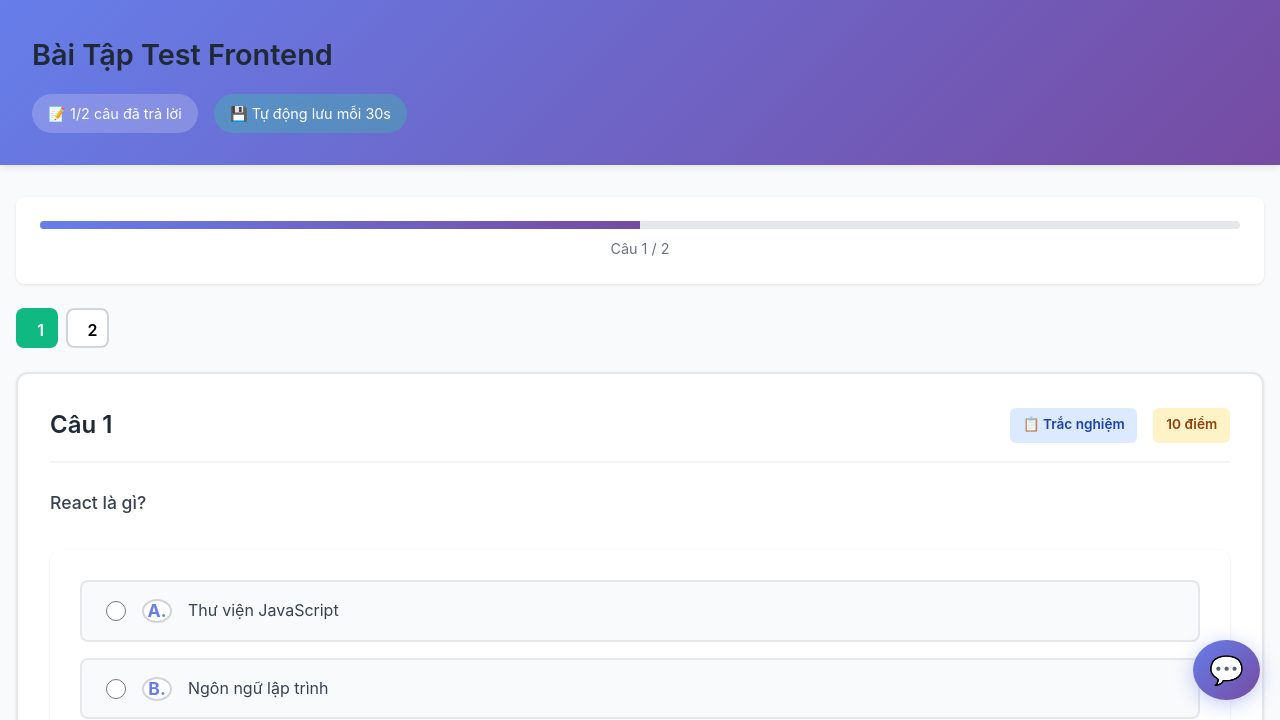
AssignmentView Component › Navigation › nên cho phép nhảy đến câu hỏi bằng question pills
This screenshot has width=1280, height=720.
Check: the text "React là gì?" is shown, box [50,492,146,512]
Note: Click pill 2
Click the button "2".
click(88, 328)  # box [66,308,109,348]
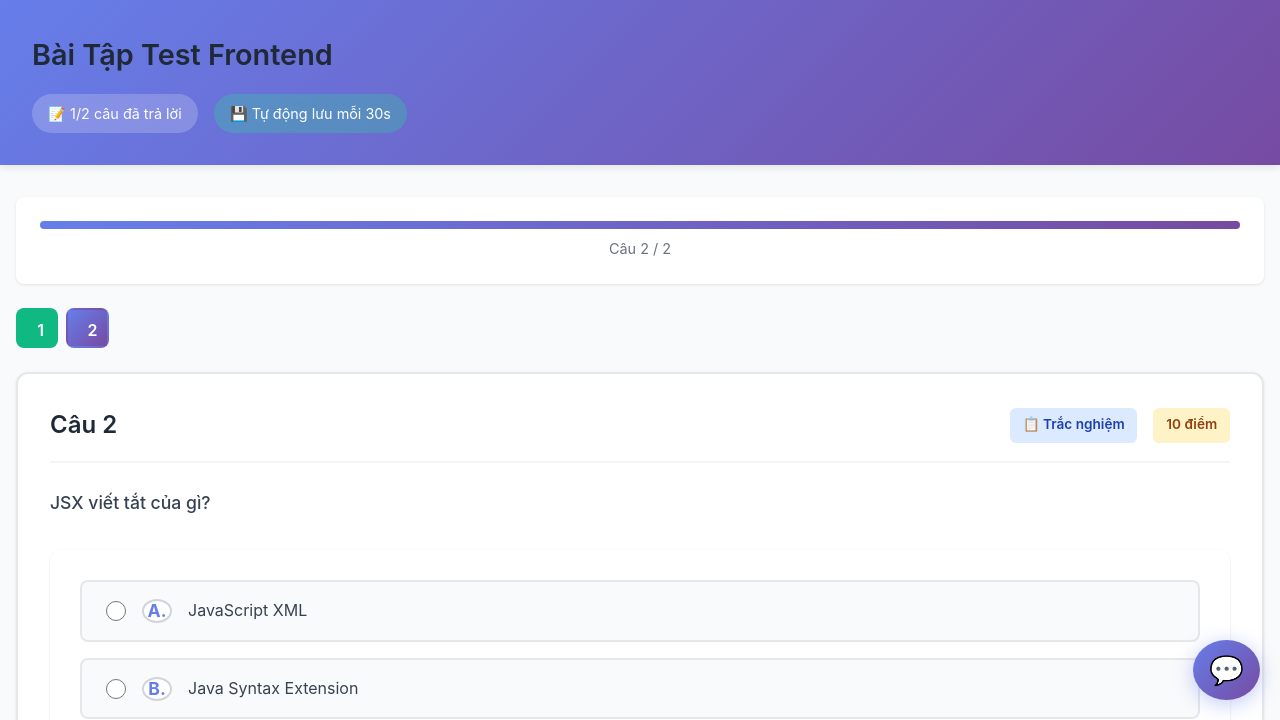
Check: the text "JSX viết tắt của gì?" is shown, box [50,492,211,512]
